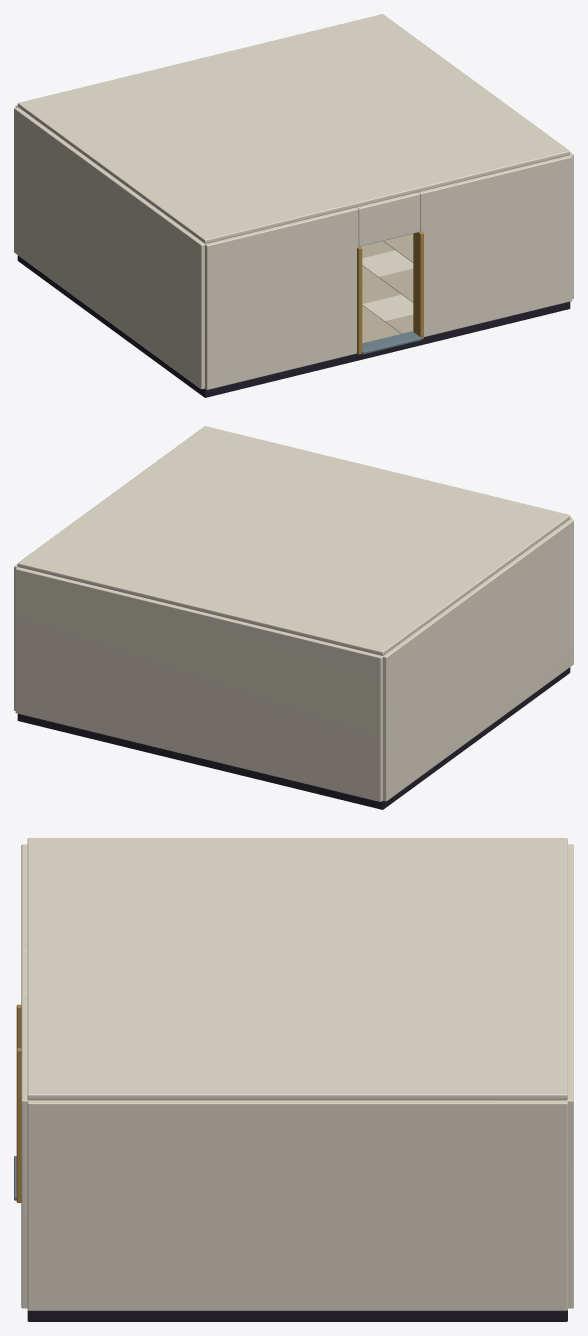
Rendered from hotel_washroom.glb.
3 views of the same model, one above another, from view 1: azimuth 30°, elevation 25°; view 2: azimuth 150°, elevation 25°; view 3: azimuth 270°, elevation 25° (orthographic). The views are drawn at different scales.
Visible parts, largest first — view 1: ceiling.001, structural_wall.013, front_wall.004, front_wall.005, floor.003, front_lintel.002, door_brass_jamb.005, ivory_floor_tile.624, ivory_floor_tile.614, threshold.002, ivory_floor_tile.615, door_brass_jamb.004 (+2 smaller); view 2: ceiling.001, structural_wall.012, structural_wall.013, floor.003; view 3: ceiling.001, structural_wall.014, floor.003, structural_wall.012, front_wall.005, door_brass_jamb.005, front_wall.004.
Part boxes in pixels (x1,y1,x2,y2): ceiling.001: (17, 14, 570, 243); structural_wall.013: (14, 107, 204, 389); front_wall.004: (205, 207, 358, 389); front_wall.005: (418, 155, 572, 337); floor.003: (17, 255, 570, 397); front_lintel.002: (356, 192, 420, 246); door_brass_jamb.005: (413, 232, 423, 339); ivory_floor_tile.624: (362, 250, 413, 277); ivory_floor_tile.614: (362, 294, 413, 321); threshold.002: (362, 331, 421, 354); ivory_floor_tile.615: (362, 277, 401, 303); door_brass_jamb.004: (357, 246, 362, 354); ceiling.001: (17, 426, 570, 655); structural_wall.012: (15, 567, 382, 801); structural_wall.013: (383, 519, 573, 801); floor.003: (17, 667, 570, 809); ceiling.001: (27, 838, 567, 1100); structural_wall.014: (27, 1100, 567, 1310); floor.003: (27, 1310, 567, 1321); structural_wall.012: (567, 844, 573, 1308); front_wall.005: (21, 994, 28, 1308); door_brass_jamb.005: (16, 1048, 21, 1202); front_wall.004: (21, 844, 27, 951).
Bounding box in the file's own units: 9.18 × 3.72 × 8.29.
